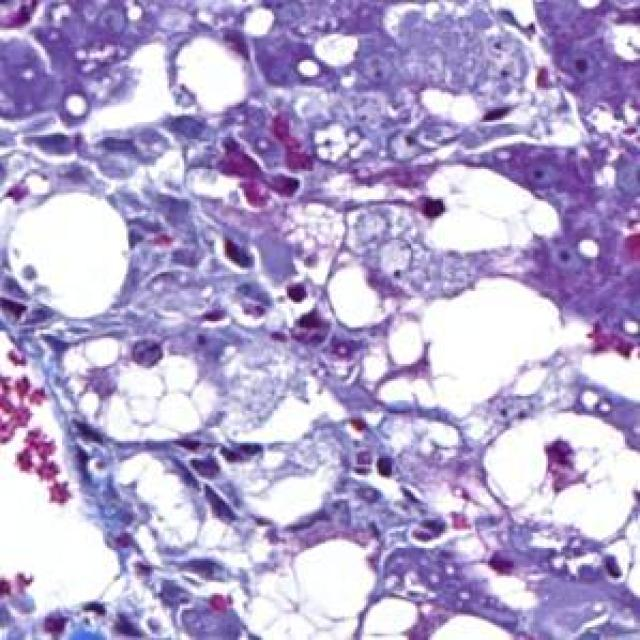ballooning: (469, 402, 638, 554), (41, 328, 229, 452), (402, 158, 568, 272), (218, 531, 383, 631)
